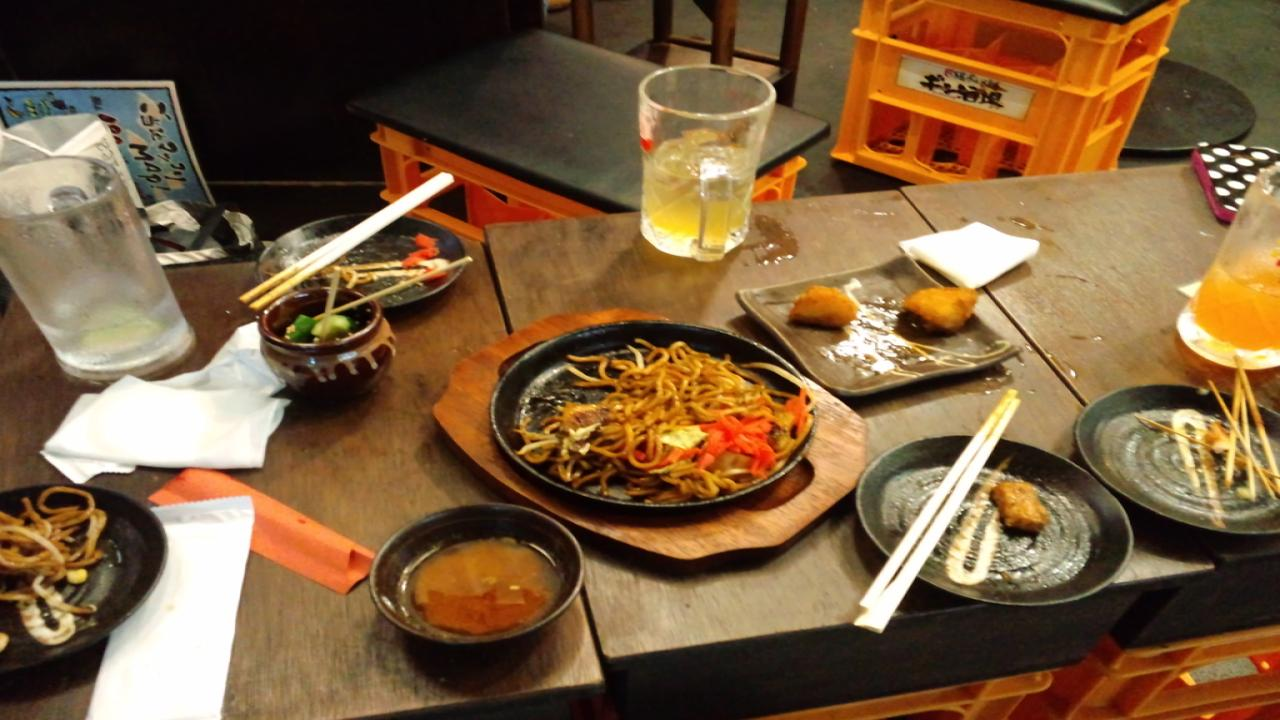chopstick: (854, 391, 1025, 628), (239, 172, 457, 306)
